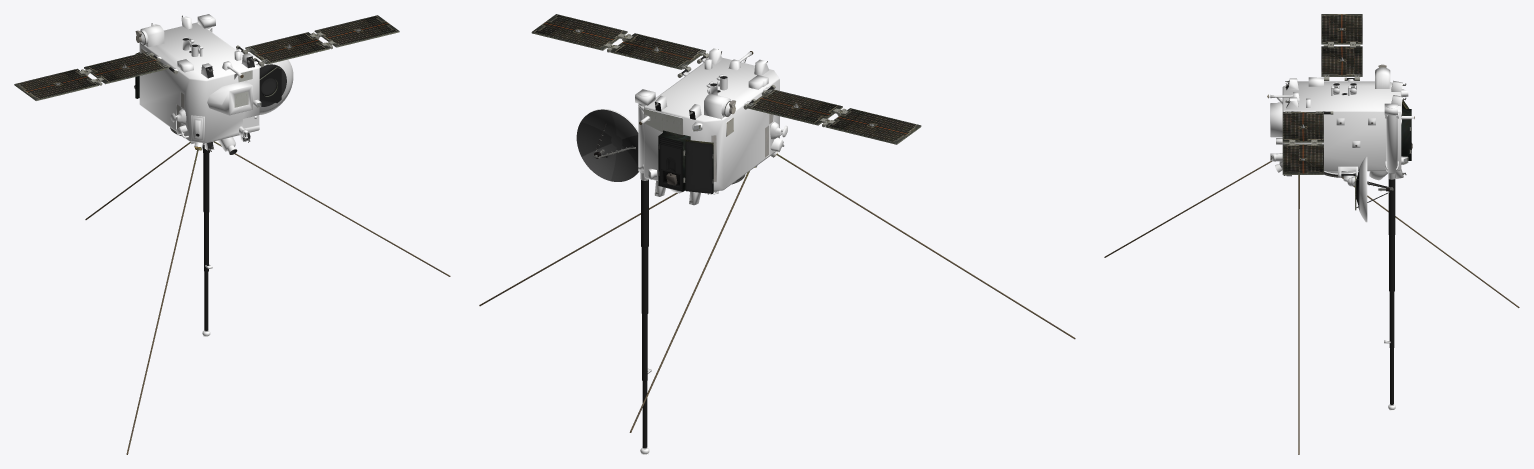
Rendered from stereo_a.gltf.
3 renders of one model, left to right at view 1: azimuth 30°, elevation 25°; view 2: azimuth 150°, elevation 25°; view 3: azimuth 270°, elevation 25°, orthographic. The views are drawn at different scales.
Visible parts, largest first — view 1: StereoA, shiny_panel, tex_01, tex_black, AO_dark; view 2: StereoA, shiny_panel, tex_01, AO_dish, AO_dark, tex_black; view 3: StereoA, shiny_panel, tex_01, tex_black.
Boxes of the visible parts, x1=… form: StereoA: x1=139, y1=14, x2=293, y2=336; shiny_panel: x1=15, y1=15, x2=398, y2=99; tex_01: x1=14, y1=15, x2=450, y2=454; tex_black: x1=153, y1=38, x2=281, y2=330; AO_dark: x1=259, y1=64, x2=286, y2=106; StereoA: x1=591, y1=48, x2=787, y2=454; shiny_panel: x1=532, y1=14, x2=920, y2=143; tex_01: x1=479, y1=29, x2=1075, y2=432; AO_dish: x1=576, y1=109, x2=638, y2=181; AO_dark: x1=658, y1=136, x2=712, y2=193; tex_black: x1=596, y1=56, x2=773, y2=448; StereoA: x1=1268, y1=67, x2=1413, y2=410; shiny_panel: x1=1282, y1=14, x2=1362, y2=173; tex_01: x1=1104, y1=28, x2=1519, y2=454; tex_black: x1=1291, y1=78, x2=1410, y2=404.
Bounding box in the file's own units: 8.02 × 5.89 × 7.11.
Materials: 7 (4 with a texture image).
